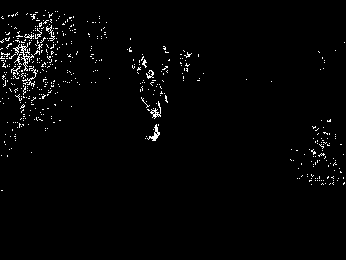person: (139, 69, 168, 141)
